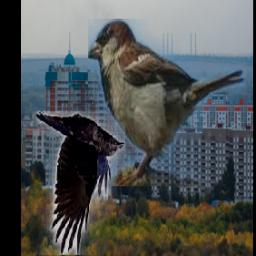Crow: (36, 111, 125, 255)
Sparrow: (88, 20, 246, 187)
